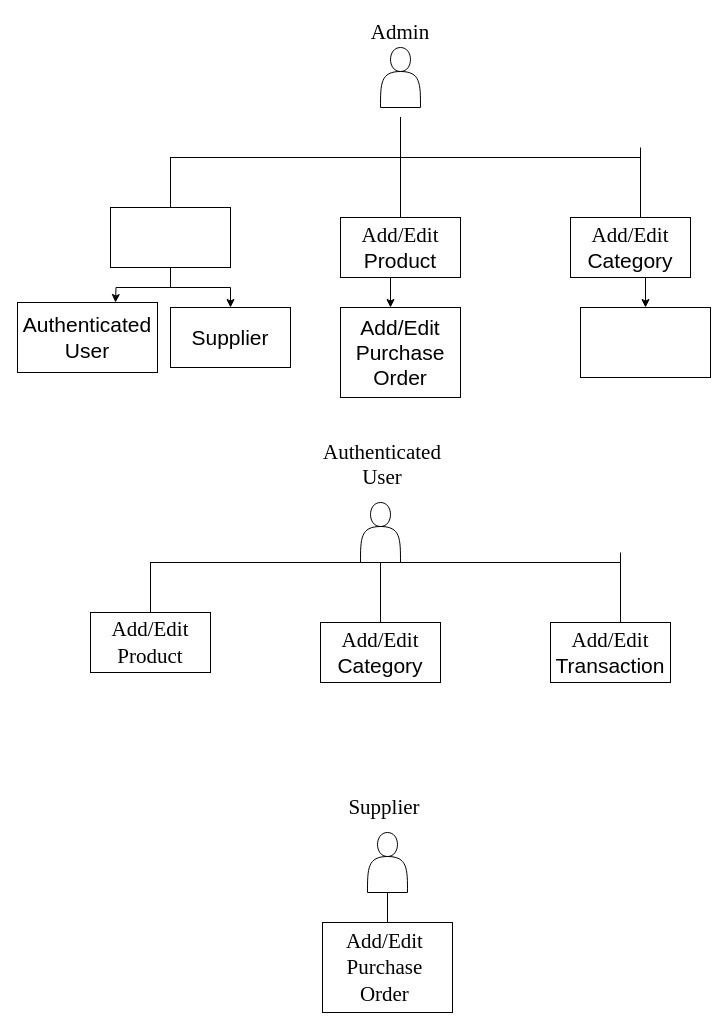
Some shapes in this 728 by 1030 pixel diagram are drawn without their labels. The shapes that lost their labels are listed below. From the top down, each one's box as (x1, y1, x2, y2) in pixels, then its label:
(110, 206, 230, 268): Add/Edit Users
(580, 306, 710, 378): Manage Transactions
